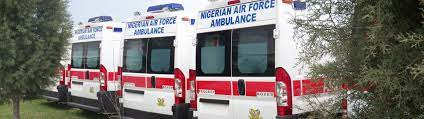special: (196, 4, 345, 119), (120, 3, 194, 119), (68, 16, 122, 114)
